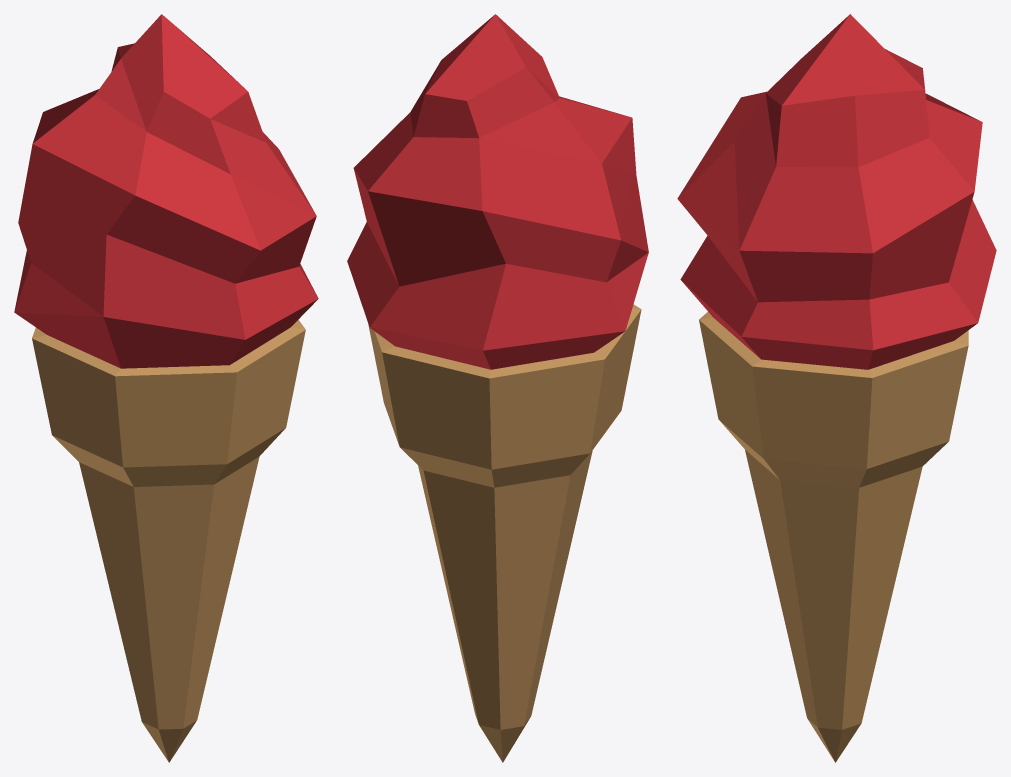
Rendered from food_ice-cream-cone.fbx.
The picture shows the model from 3 angles, left to right: view 1: azimuth 30°, elevation 25°; view 2: azimuth 150°, elevation 25°; view 3: azimuth 270°, elevation 25°; orthographic projection.
Visible parts, largest first — view 1: food_ice_cream_cone; view 2: food_ice_cream_cone; view 3: food_ice_cream_cone.
Boxes of the visible parts, x1,y1,x2,y2 form: food_ice_cream_cone: [14, 14, 318, 762]; food_ice_cream_cone: [347, 14, 648, 762]; food_ice_cream_cone: [677, 14, 996, 762].
Bounding box in the file's own units: 76.74 × 200 × 77.29.
